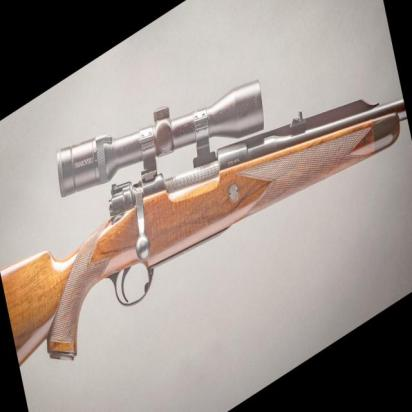Gun: (14, 78, 406, 358)
